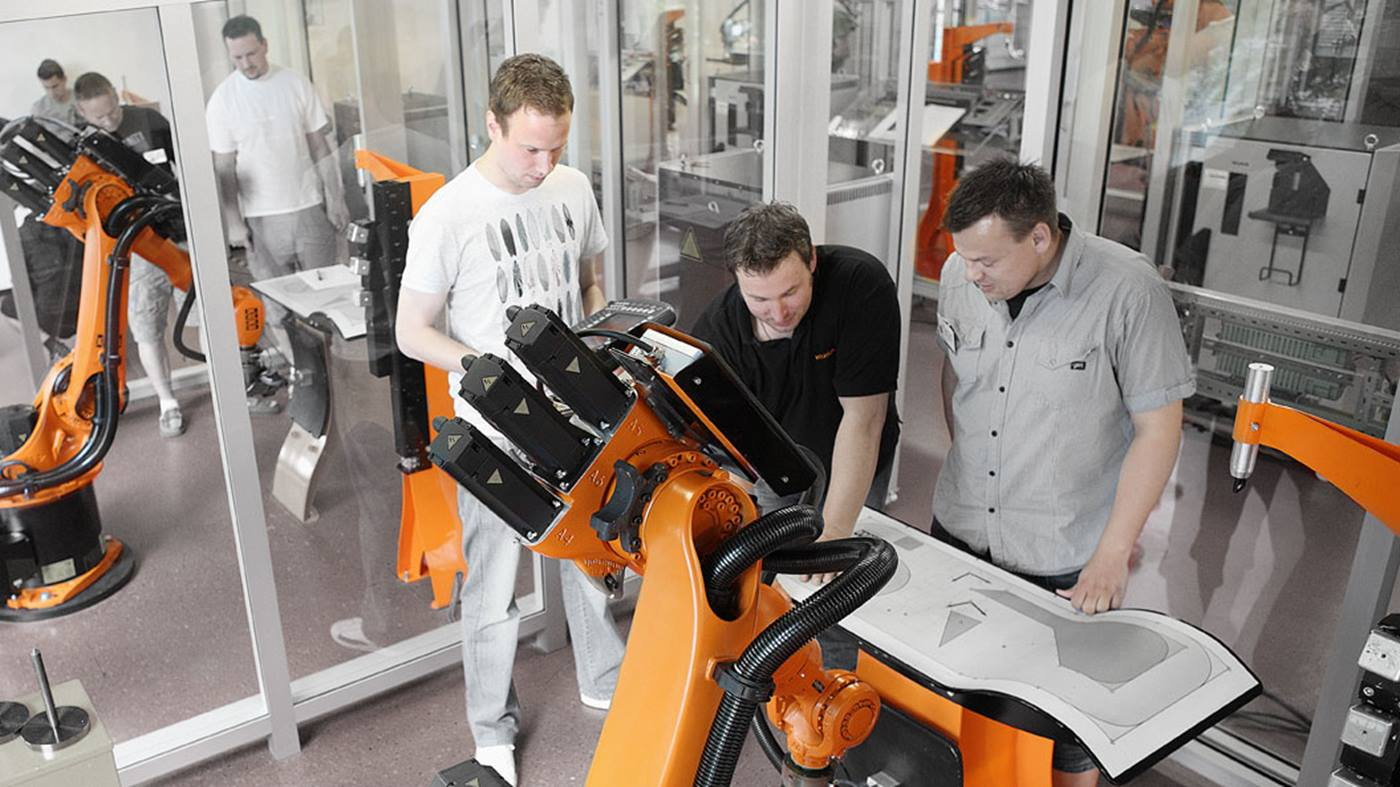person: (392, 51, 647, 782), (928, 161, 1195, 617), (685, 200, 900, 582), (200, 12, 356, 419), (75, 74, 217, 438), (27, 60, 80, 130)
robot: (425, 294, 898, 787), (1, 113, 263, 623)
